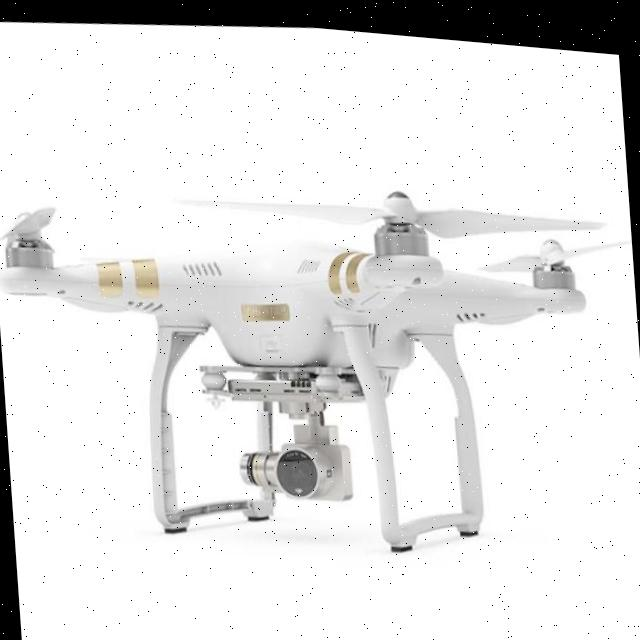drone: (0, 132, 640, 446)
